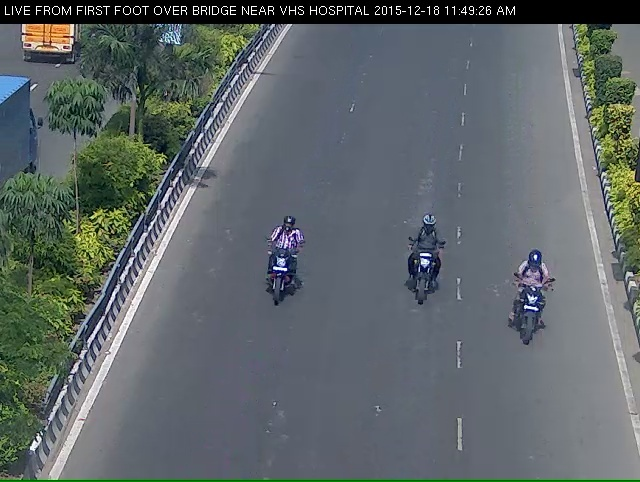Person: (504, 270, 552, 377), (252, 237, 298, 337), (402, 235, 447, 324)
